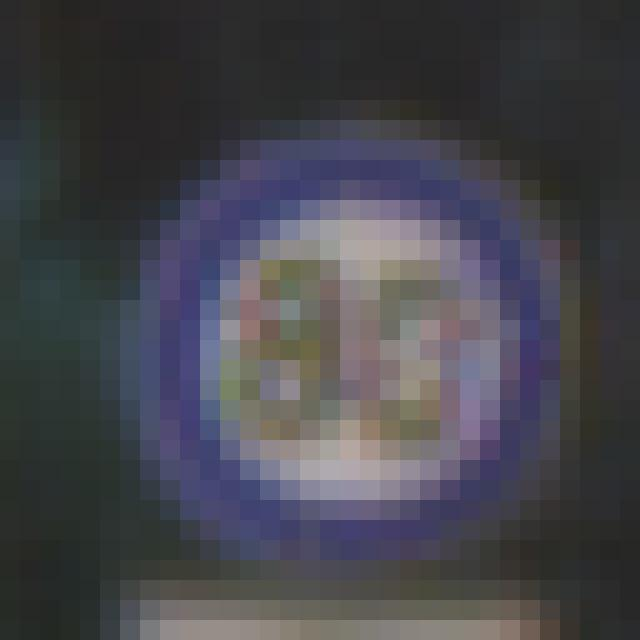SPEED-LIMIT-80: (116, 145, 558, 547)
